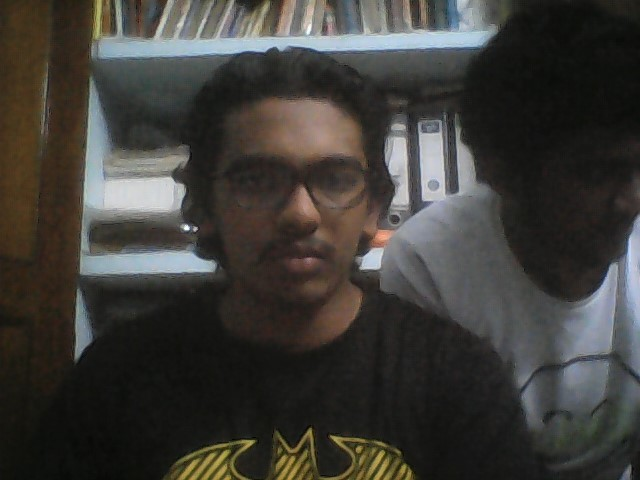person: (54, 49, 497, 480), (403, 3, 640, 337)
